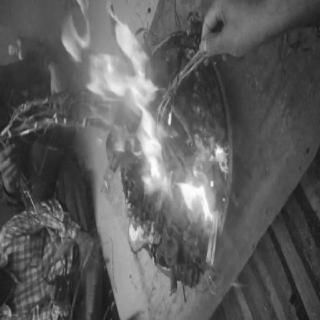Fire: (60, 1, 178, 215)
